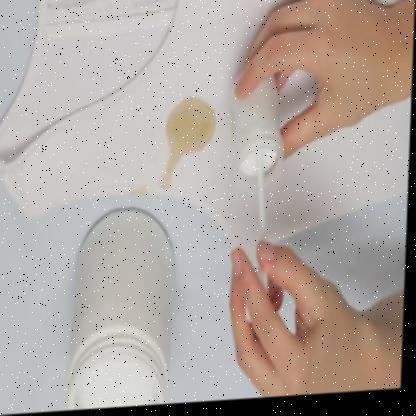coffee: (173, 109, 206, 145)
